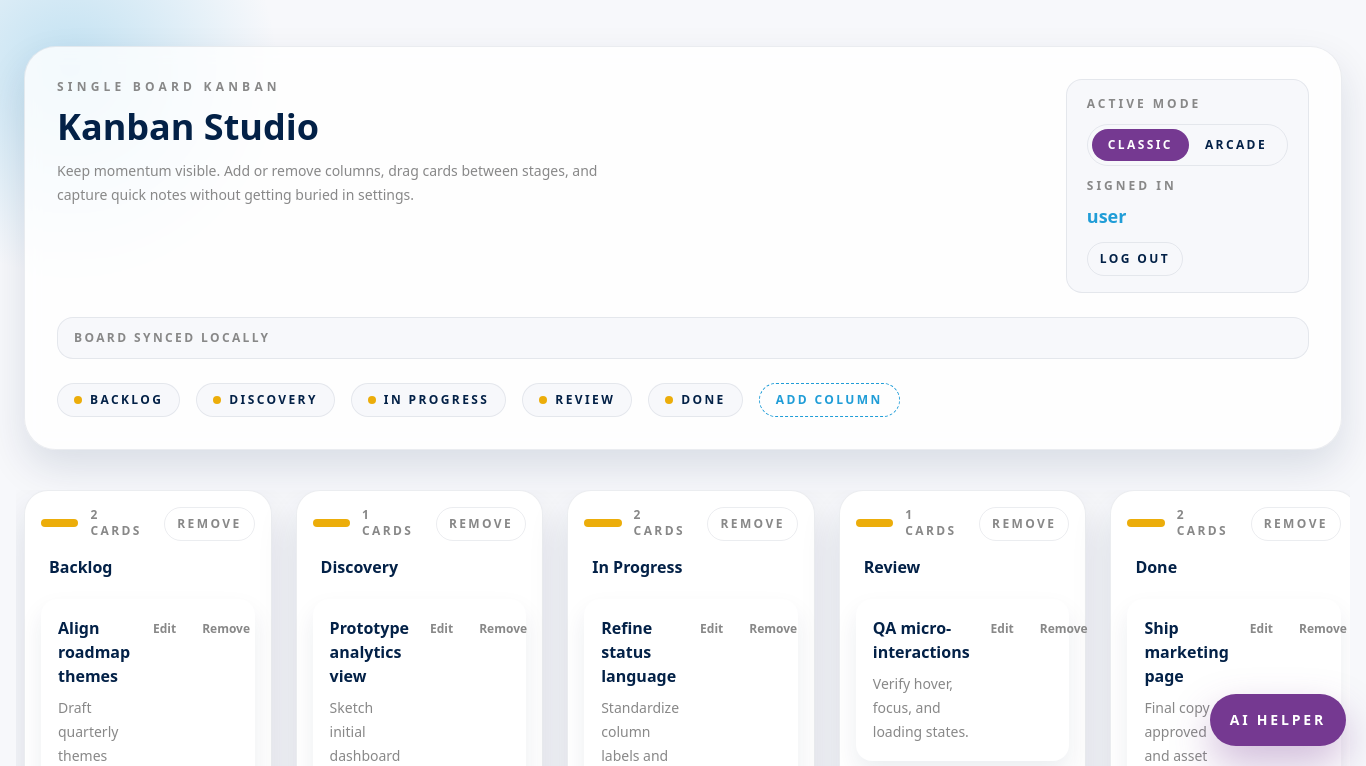
Test: AppShell › sends an AI message and updates the board
Step 1. Click the button "AI Helper" → [1278, 720], box x1=1210 y1=694 x2=1346 y2=746
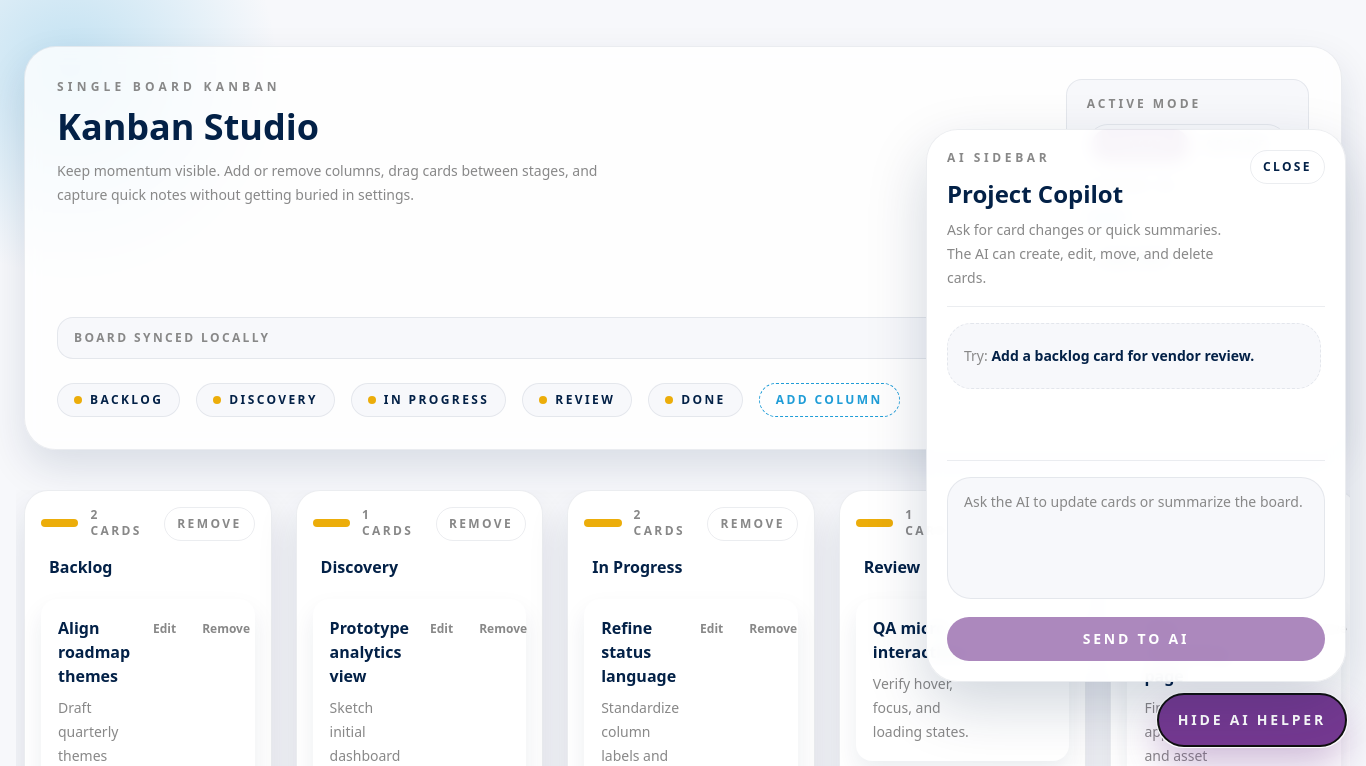
Step 2. Type "Add a card" into the text box with placeholder "Ask the AI to update cards or summarize the board." → [1136, 538], box x1=947 y1=477 x2=1325 y2=599
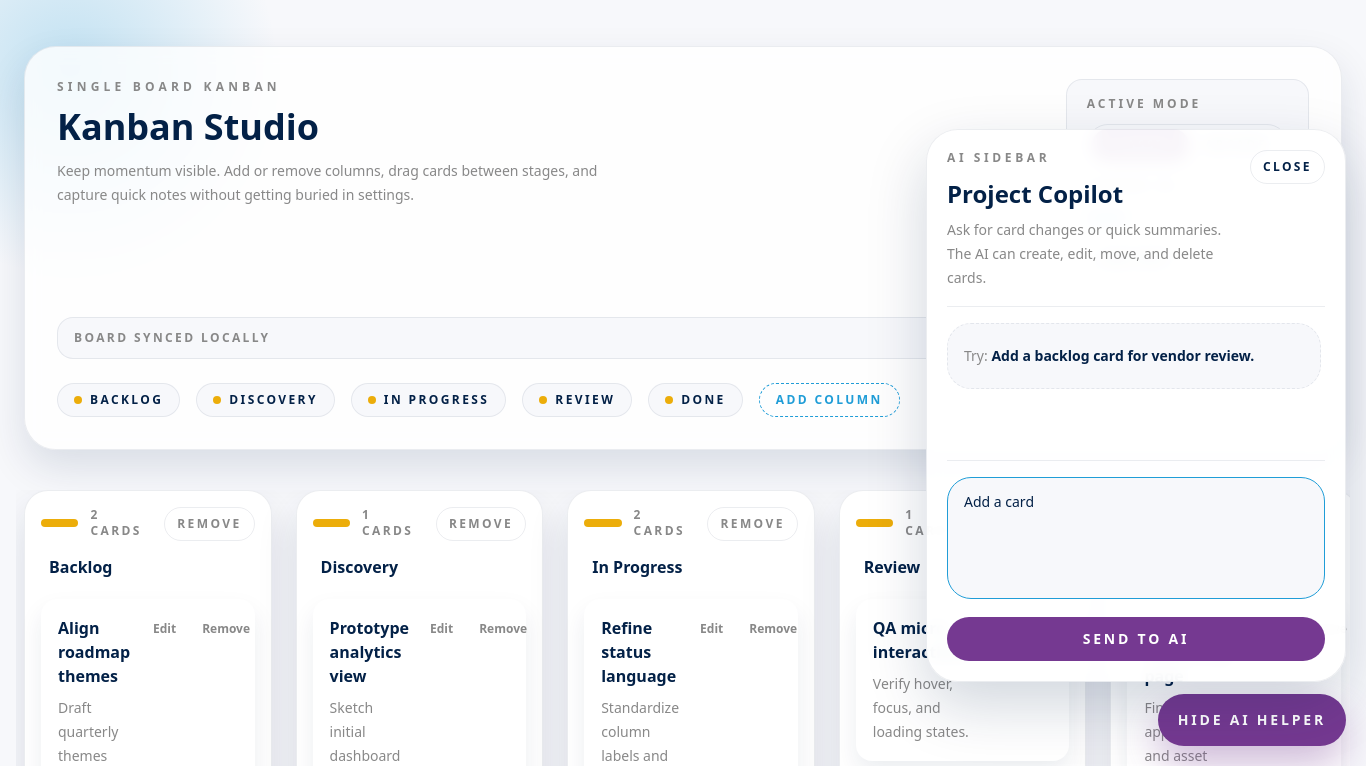
Step 3. Click the button "Send To AI" → [1136, 639], box x1=947 y1=617 x2=1325 y2=661
(page scrolled)
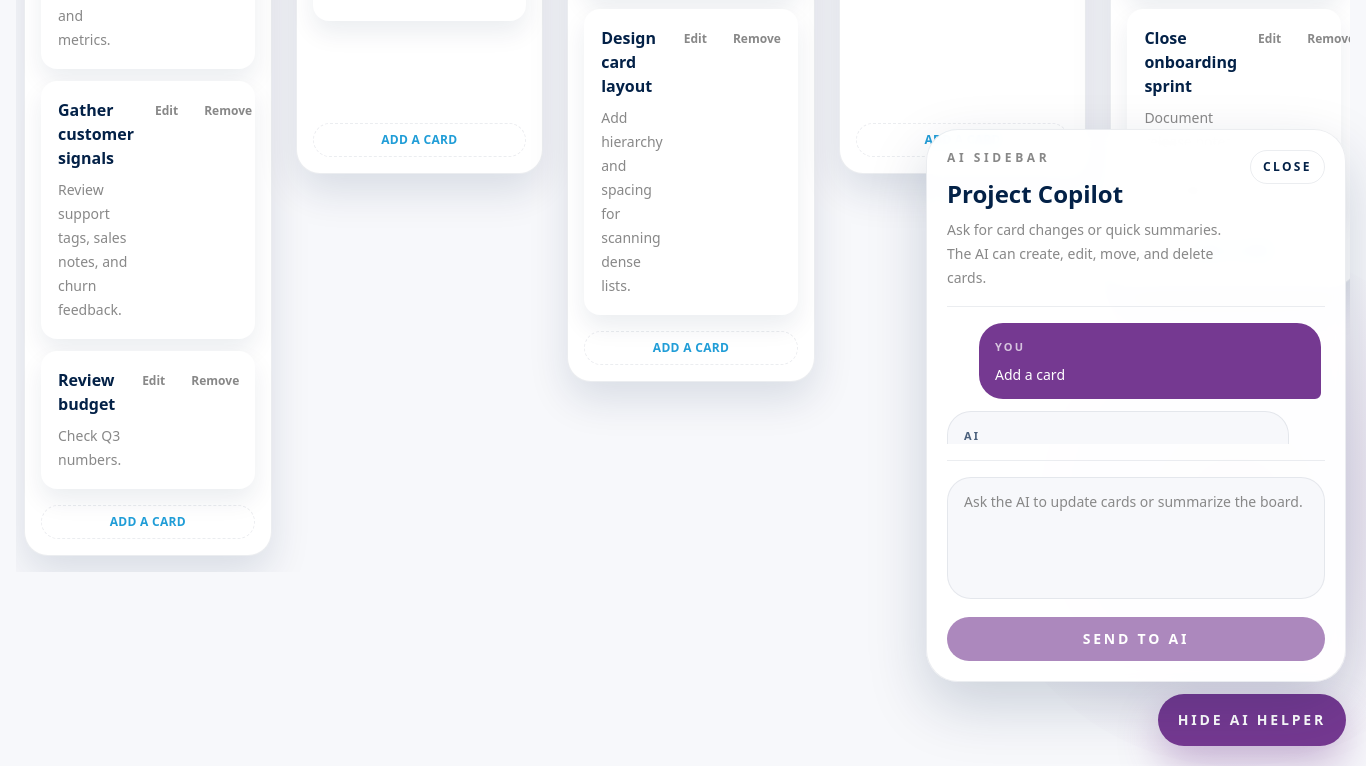
Now the heading "Review budget" is shown, box x1=58 y1=368 x2=121 y2=416
